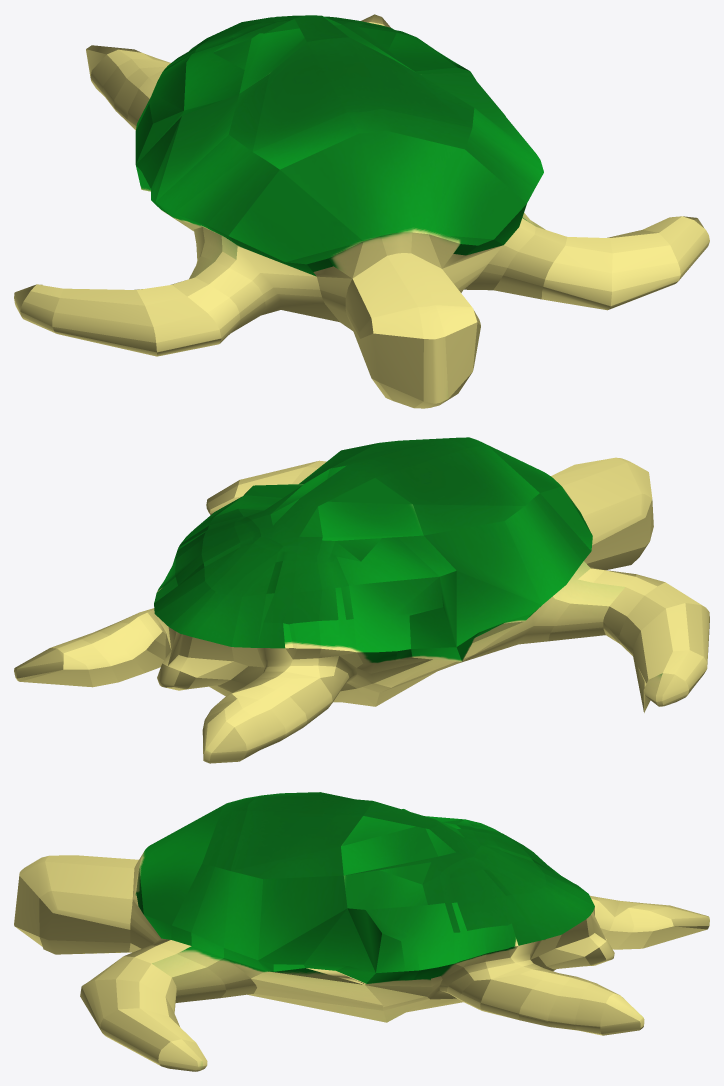
The model's file is TurtlesHatchingRight.fbx.
3 renders of one model, top to bottom at view 1: azimuth 30°, elevation 25°; view 2: azimuth 150°, elevation 25°; view 3: azimuth 270°, elevation 25°, orthographic. The views are drawn at different scales.
Parts seen in each view (by area): view 1: TurtleHatchRight; view 2: TurtleHatchRight; view 3: TurtleHatchRight.
Part boxes in pixels (box(x1,y1,x2,y2)): TurtleHatchRight: box(14, 14, 709, 408); TurtleHatchRight: box(14, 437, 709, 763); TurtleHatchRight: box(14, 792, 709, 1071).
Bounding box in the file's own units: 11.32 × 4.28 × 13.48.
